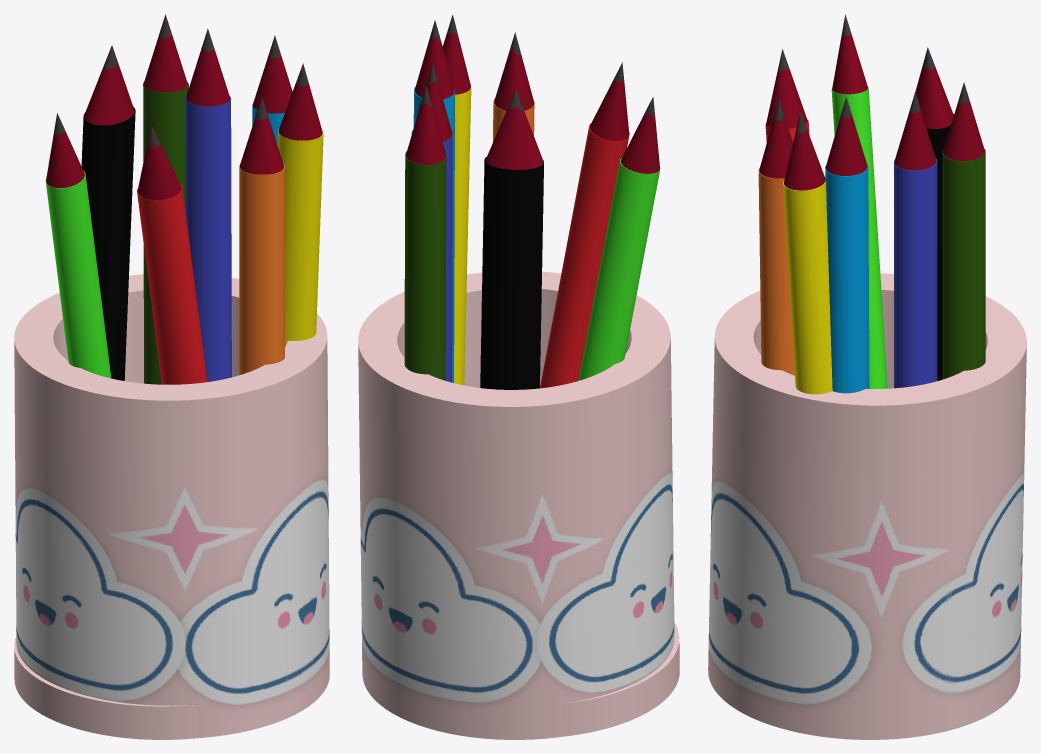
Rendered from group_pencils.glb.
3 renders of one model, left to right at view 1: azimuth 30°, elevation 25°; view 2: azimuth 150°, elevation 25°; view 3: azimuth 270°, elevation 25°, orthographic.
Visible parts, largest first — view 1: nodes[0], nodes[15], nodes[17], nodes[3], nodes[7], nodes[9], nodes[5], nodes[1], nodes[13], nodes[16], nodes[2], nodes[14] (+5 smaller); view 2: nodes[0], nodes[17], nodes[7], nodes[13], nodes[9], nodes[1], nodes[5], nodes[16], nodes[6], nodes[12], nodes[15], nodes[8] (+5 smaller); view 3: nodes[0], nodes[15], nodes[13], nodes[11], nodes[5], nodes[3], nodes[9], nodes[10], nodes[14], nodes[4], nodes[12], nodes[17] (+4 smaller).
Boxes of the visible parts, x1,y1,x2,y2 form: nodes[0]: (14,274,329,738); nodes[15]: (185,96,231,381); nodes[17]: (81,107,135,380); nodes[3]: (239,164,285,375); nodes[7]: (137,184,207,384); nodes[9]: (45,170,111,378); nodes[5]: (277,129,323,346); nodes[1]: (14,636,196,739); nodes[13]: (143,82,188,384); nodes[16]: (84,45,134,125); nodes[2]: (239,97,283,174); nodes[14]: (186,28,230,106); nodes[0]: (358,271,674,739); nodes[17]: (480,157,543,389); nodes[7]: (540,123,629,388); nodes[13]: (404,151,446,380); nodes[9]: (578,158,660,380); nodes[1]: (562,622,679,736); nodes[5]: (454,85,471,385); nodes[16]: (485,89,543,169); nodes[6]: (590,62,629,141); nodes[12]: (406,85,445,164); nodes[15]: (411,130,452,382); nodes[8]: (620,97,659,173); nodes[0]: (708,273,1026,739); nodes[15]: (894,158,937,388); nodes[13]: (942,149,985,379); nodes[11]: (825,164,869,393); nodes[5]: (783,177,832,394); nodes[3]: (758,167,794,375); nodes[9]: (831,87,887,388); nodes[10]: (825,97,867,175); nodes[14]: (894,91,936,170); nodes[4]: (784,111,825,190); nodes[12]: (943,82,984,160); nodes[17]: (927,113,953,380).
Bounding box in the file's own units: 0.004 × 0.00867 × 0.00401.
Materials: 11 (11 with a texture image).
